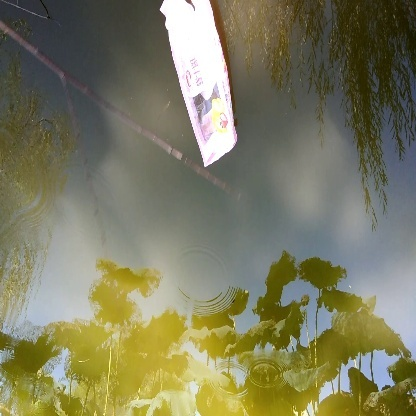plastic-bag: (158, 2, 240, 170)
